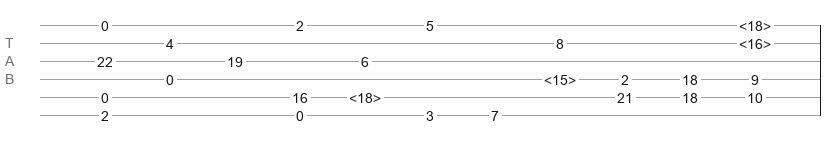0: (101, 18, 109, 28), (101, 90, 109, 100), (166, 72, 174, 82), (296, 108, 304, 118)
10: (747, 90, 763, 100)
16: (292, 90, 308, 100)
18: (682, 90, 698, 100), (682, 72, 698, 82)
19: (227, 54, 243, 64)
2: (101, 108, 109, 118), (296, 18, 304, 28), (621, 72, 629, 82)
21: (617, 90, 633, 100)
22: (97, 54, 113, 64)
3: (426, 108, 434, 118)
4: (166, 36, 174, 46)
5: (426, 18, 434, 28)
6: (361, 54, 369, 64)
7: (491, 108, 499, 118)
8: (556, 36, 564, 46)
9: (751, 72, 759, 82)
harmonic: (349, 90, 381, 100), (544, 72, 576, 82), (739, 36, 771, 46), (739, 18, 771, 28)
